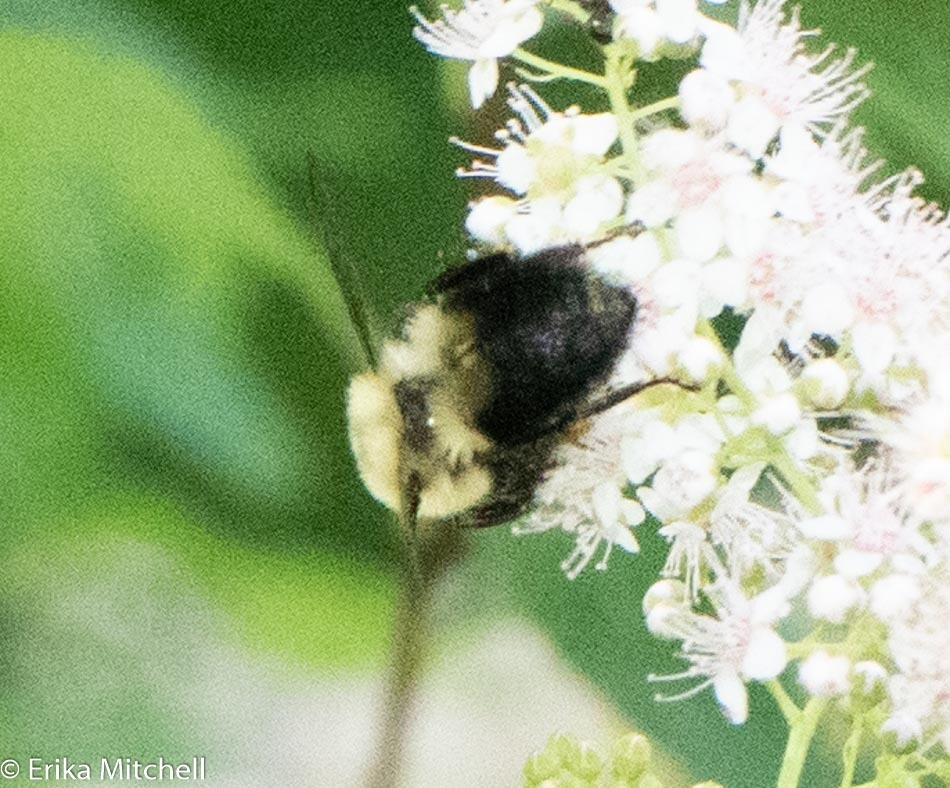bumblebee: (302, 147, 706, 597)
